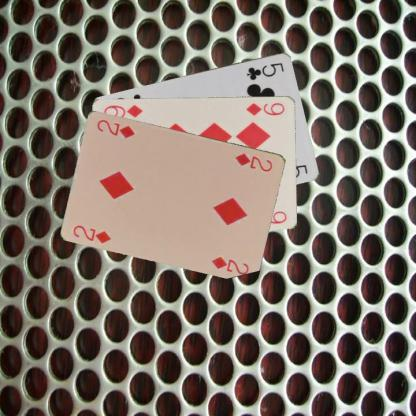2d: (233, 150, 274, 173), (70, 222, 112, 244)
5c: (244, 60, 286, 82)
9d: (244, 100, 286, 117)
